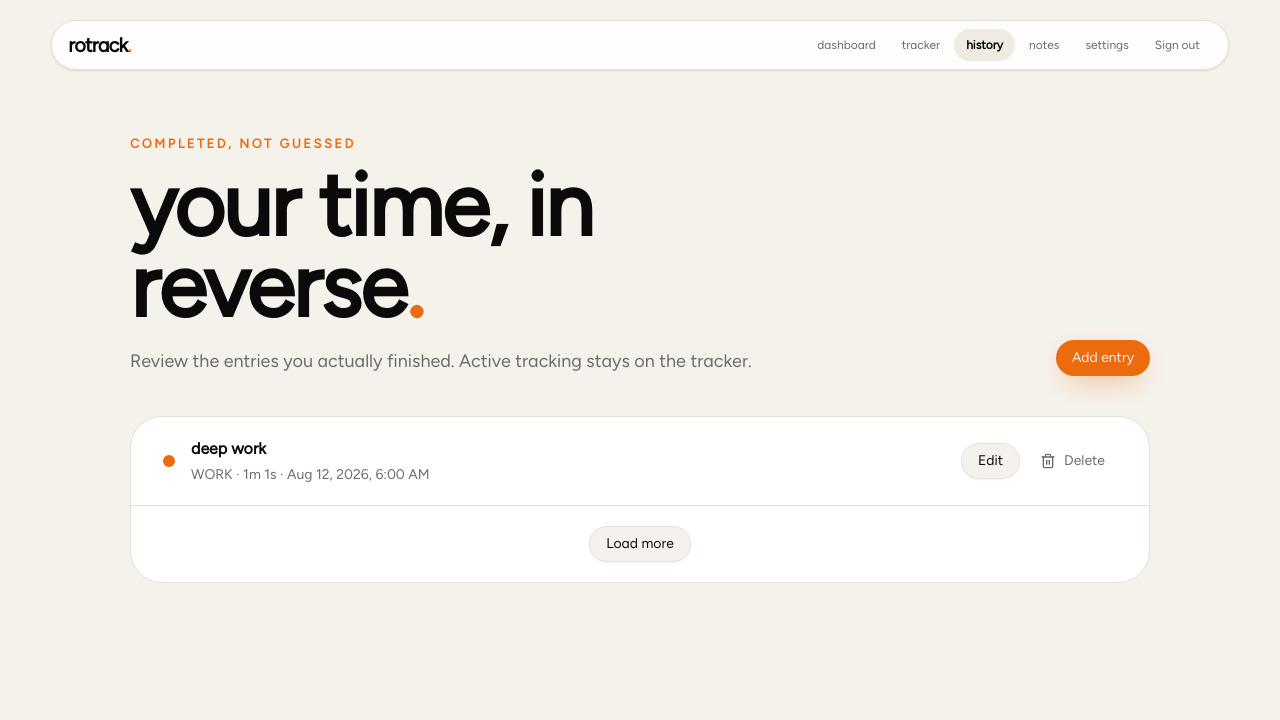
HistoryPage › clears load-more and delete errors after a successful refresh
Check: the text "deep work" is shown, box [191,439,266,458]
Click the button "Load more" at [640, 544], box [589,526,691,562]
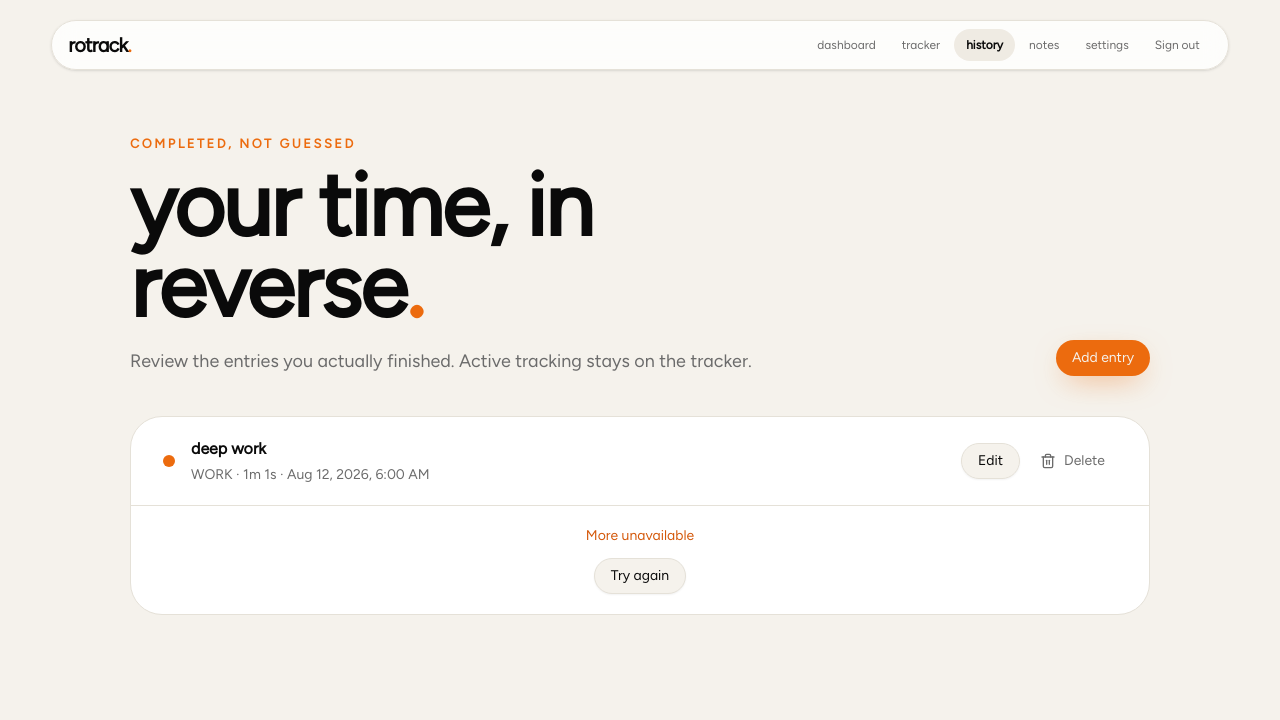
Check: the text "More unavailable" is shown, box [586,527,694,544]
Click the button with aria-label "delete deep work" at [1073, 461], box [1028,443,1117,479]
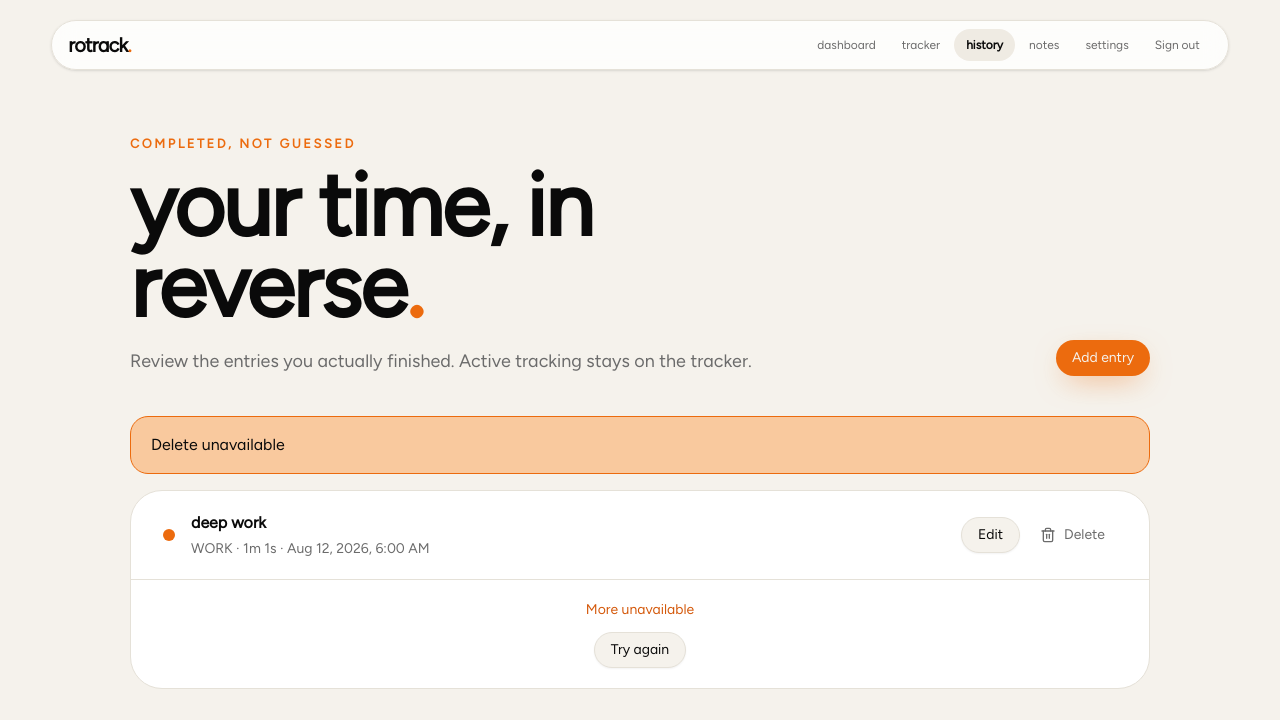
Check: the text "Delete unavailable" is shown, box [130,416,1150,474]
Click the button with aria-label "delete deep work" at [1073, 535], box [1028,517,1117,553]
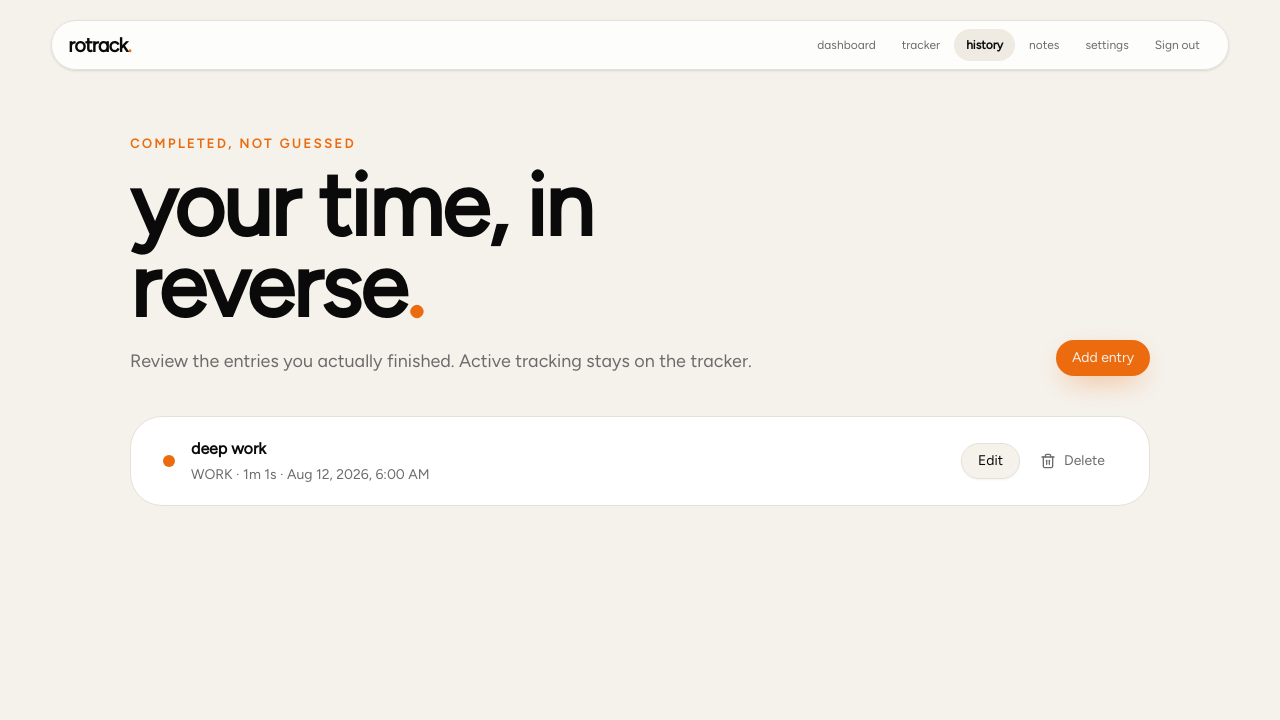
Check: the text "More unavailable" is gone
Check: the text "Delete unavailable" is gone
Check: the button "Try again" is gone
